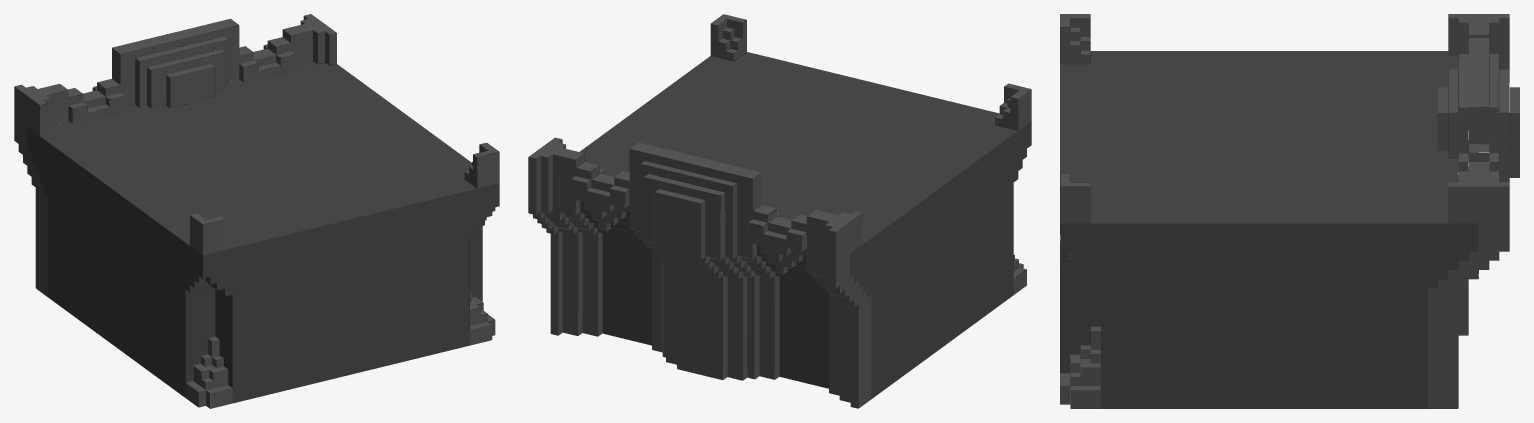
The model's file is CastleWallTopTConnection.fbx.
3 renders of one model, left to right at view 1: azimuth 30°, elevation 25°; view 2: azimuth 150°, elevation 25°; view 3: azimuth 270°, elevation 25°, orthographic. The views are drawn at different scales.
Parts seen in each view (by area): view 1: Castle wall top T connection; view 2: Castle wall top T connection; view 3: Castle wall top T connection.
Part boxes in pixels (left/top/right/bottom): Castle wall top T connection: left=14, top=14, right=499, bottom=408; Castle wall top T connection: left=528, top=14, right=1031, bottom=408; Castle wall top T connection: left=1060, top=14, right=1519, bottom=408.
Size of the model in its own units: 400 by 450 by 270.
